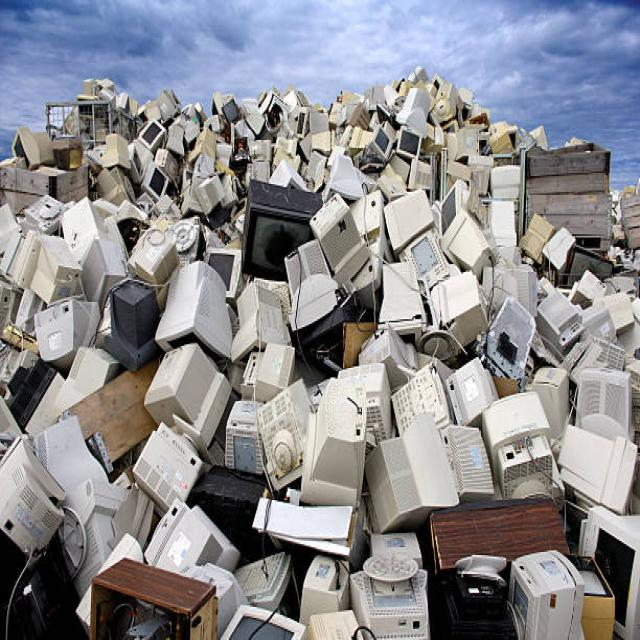metal: (11, 112, 638, 602)
